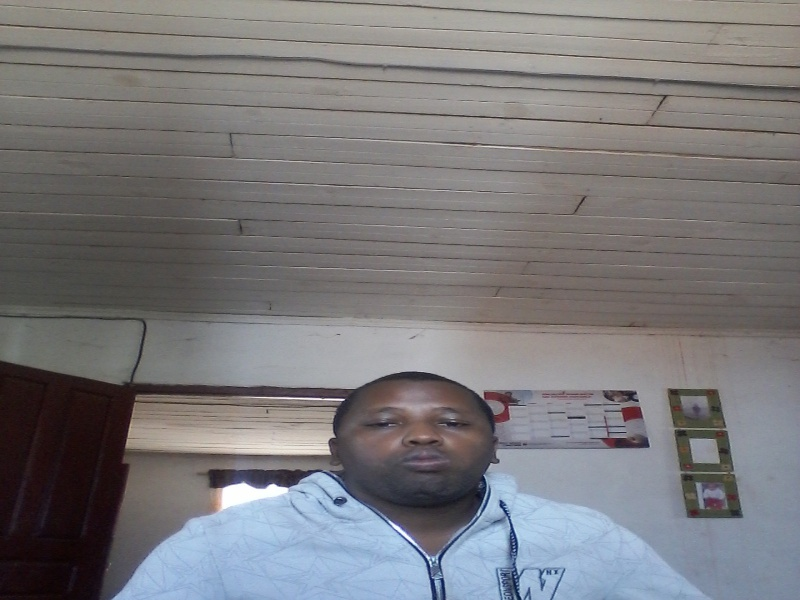TsisyArotava: (322, 354, 511, 529)
